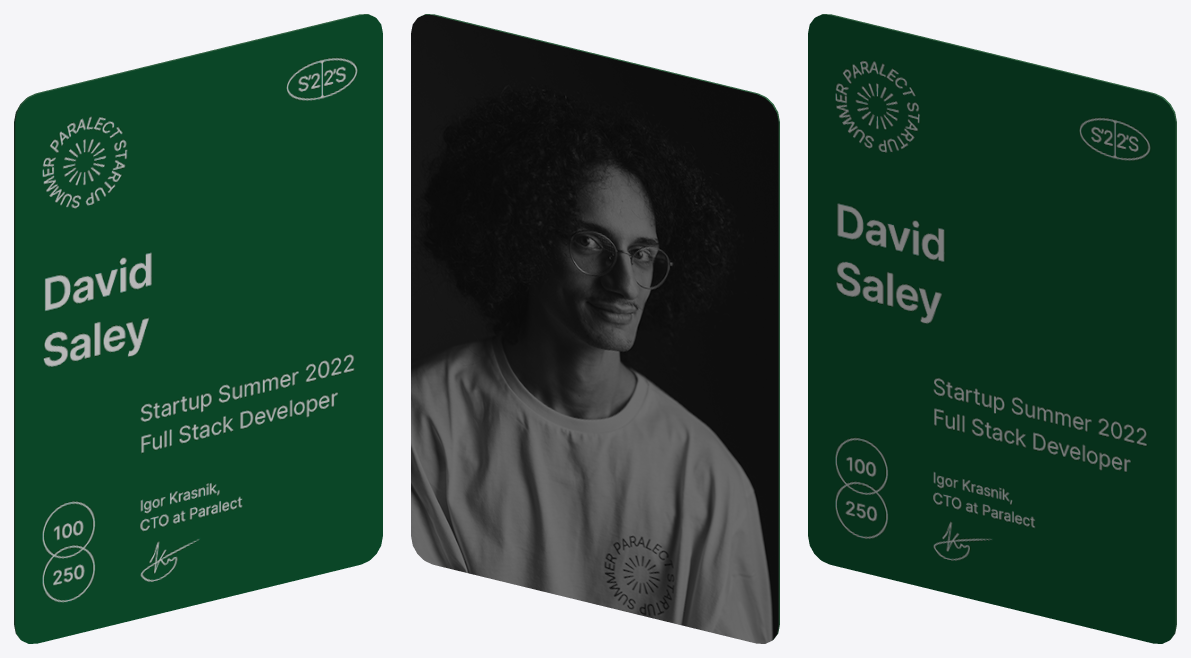
File: card.glb
3 renders of one model, left to right at view 1: azimuth 30°, elevation 25°; view 2: azimuth 150°, elevation 25°; view 3: azimuth 330°, elevation 25°, orthographic.
Visible parts, largest first — view 1: Plane; view 2: Plane; view 3: Plane.
Part boxes in pixels (bbox=[...]): Plane: bbox=[14, 14, 382, 643]; Plane: bbox=[411, 14, 779, 643]; Plane: bbox=[808, 14, 1176, 643].
Bounding box in the file's own units: 0.07 × 0.1 × 0.000396.
3 materials, 2 textured.
